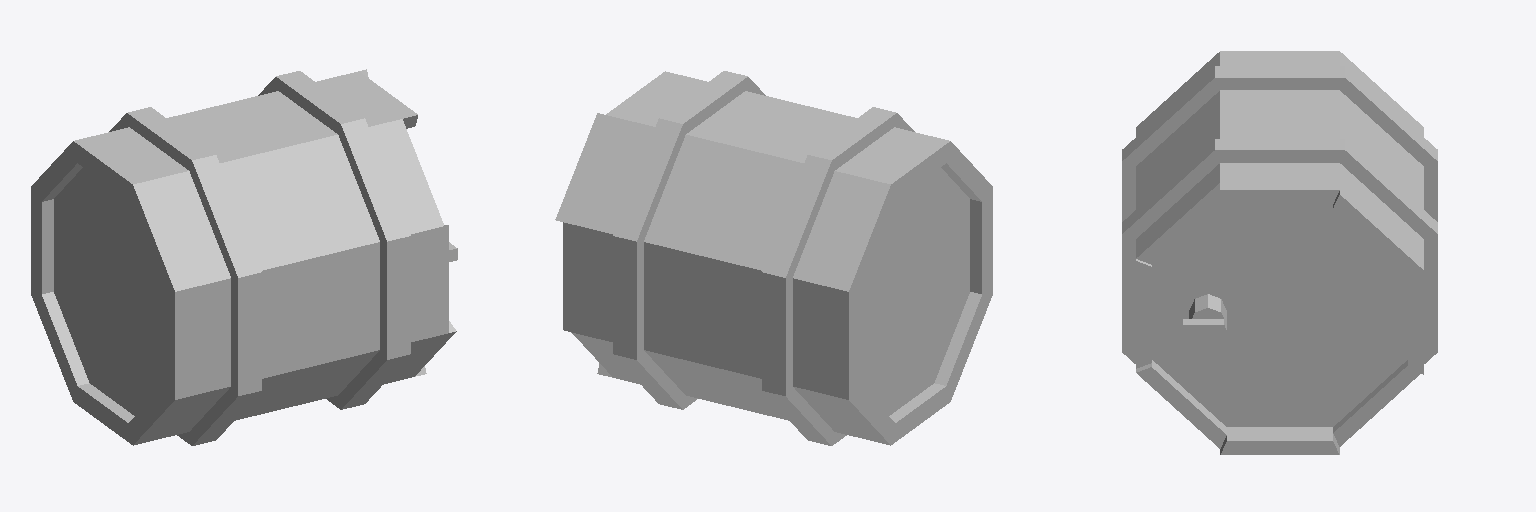
The model's file is barrel_w2_p500.002@object.obj.
The picture shows the model from 3 angles: view 1: azimuth 30°, elevation 25°; view 2: azimuth 150°, elevation 25°; view 3: azimuth 270°, elevation 25°; orthographic projection.
Visible parts, largest first — view 1: barrel; view 2: barrel; view 3: barrel.
Part boxes in pixels (x1,y1,x2,y2): barrel: (31,69,457,445); barrel: (555,71,992,445); barrel: (1122,51,1437,454).
Bounding box in the file's own units: 0.76 × 0.6789 × 0.6789.